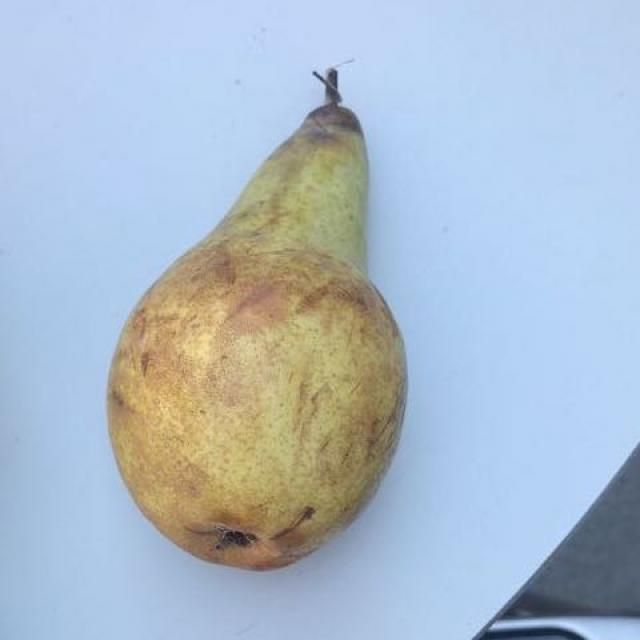pear: (110, 83, 402, 565)
